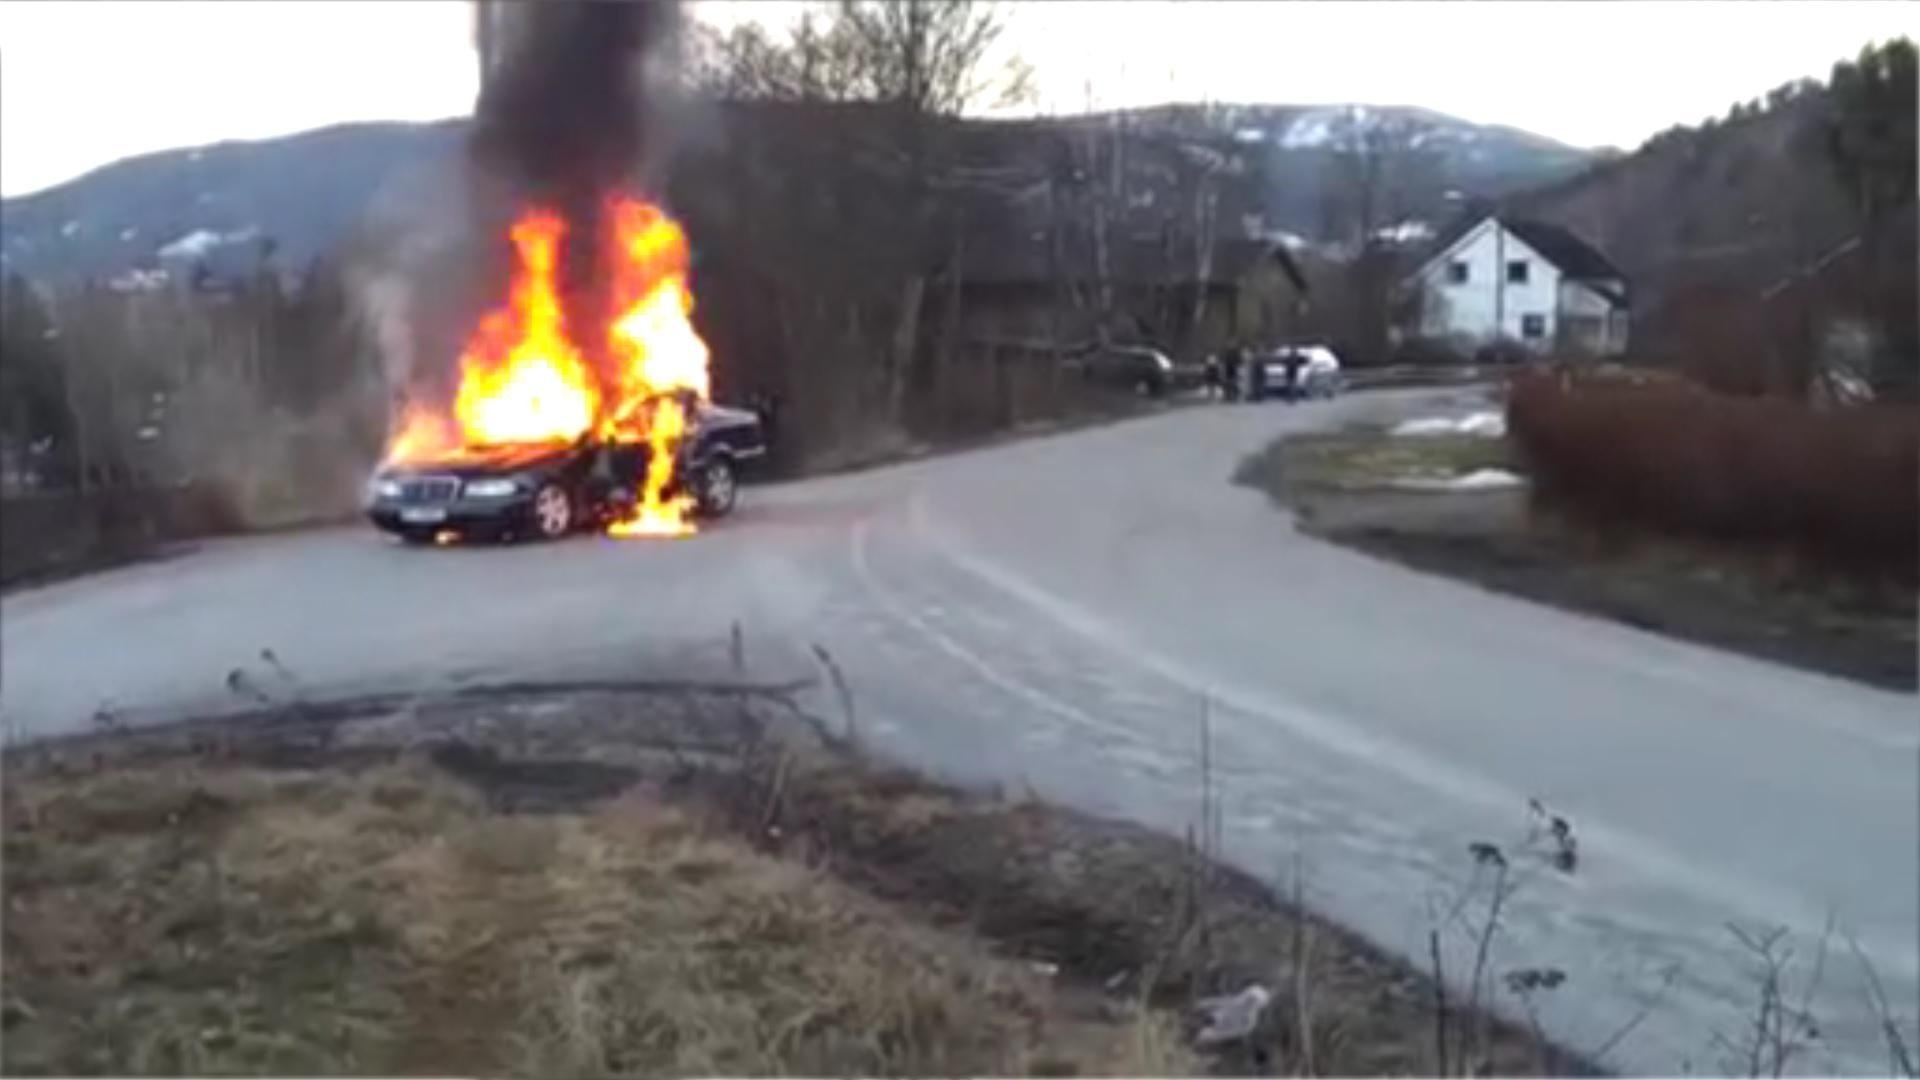fire: (382, 203, 713, 538)
